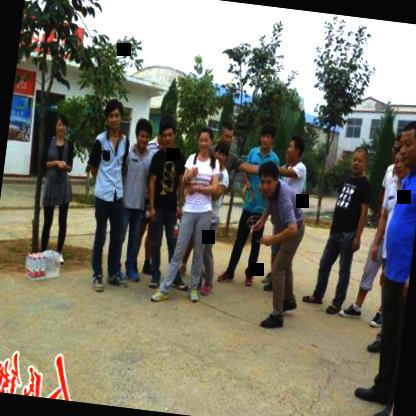head: (392, 116, 416, 174), (100, 93, 127, 137), (255, 158, 283, 199), (348, 140, 374, 178), (388, 144, 412, 184), (132, 116, 154, 152), (193, 125, 217, 157), (255, 122, 279, 152), (285, 131, 305, 162), (212, 139, 232, 170), (217, 118, 237, 146), (52, 112, 72, 140), (161, 118, 177, 148)
